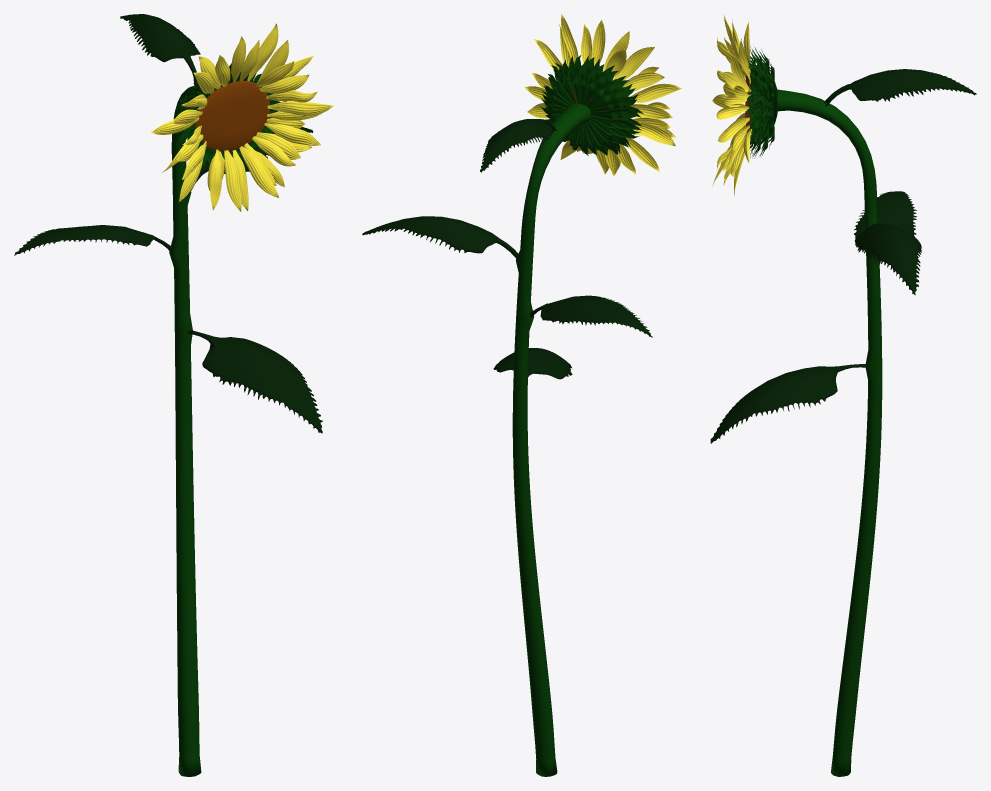
File: Sunflower_N100412.fbx
3 views of the same model, side by side, from view 1: azimuth 30°, elevation 25°; view 2: azimuth 150°, elevation 25°; view 3: azimuth 270°, elevation 25° (orthographic). The views are drawn at different scales.
Parts seen in each view (by area): view 1: Sunflower9, Sunflower8, Sunflower7, Sunflower2, Sunflower4, Sunflower6, Sunflower_, Sunflower1, Sunflower5; view 2: Sunflower9, Sunflower5, Sunflower8, Sunflower7, Sunflower0, Sunflower1, Sunflower6, Sunflower_, Sunflower2; view 3: Sunflower9, Sunflower2, Sunflower_, Sunflower0, Sunflower8, Sunflower7, Sunflower5, Sunflower6, Sunflower1, Sunflower3.
Boxes of the visible parts, box(x1,y1,x2,y2) form: Sunflower9: box(169, 85, 201, 776); Sunflower8: box(151, 24, 332, 211); Sunflower7: box(152, 23, 333, 210); Sunflower2: box(187, 330, 322, 433); Sunflower4: box(195, 80, 270, 151); Sunflower6: box(151, 24, 333, 211); Sunflower_: box(120, 14, 200, 85); Sunflower1: box(14, 225, 172, 255); Sunflower5: box(175, 63, 286, 168); Sunflower9: box(512, 103, 591, 776); Sunflower5: box(541, 55, 643, 155); Sunflower8: box(524, 14, 679, 174); Sunflower7: box(525, 16, 681, 176); Sunflower0: box(362, 216, 518, 258); Sunflower1: box(529, 295, 652, 337); Sunflower6: box(525, 17, 681, 175); Sunflower_: box(480, 119, 556, 172); Sunflower2: box(493, 348, 572, 379); Sunflower9: box(777, 89, 882, 776); Sunflower2: box(710, 364, 866, 443); Sunflower_: box(824, 69, 976, 106); Sunflower0: box(854, 223, 921, 295); Sunflower8: box(712, 17, 751, 180); Sunflower7: box(713, 22, 750, 194); Sunflower5: box(747, 46, 774, 158); Sunflower6: box(712, 14, 751, 196); Sunflower1: box(854, 191, 916, 264); Sunflower3: box(749, 65, 777, 140).
Size of the model in its own units: 4132 by 10000 by 3209.
